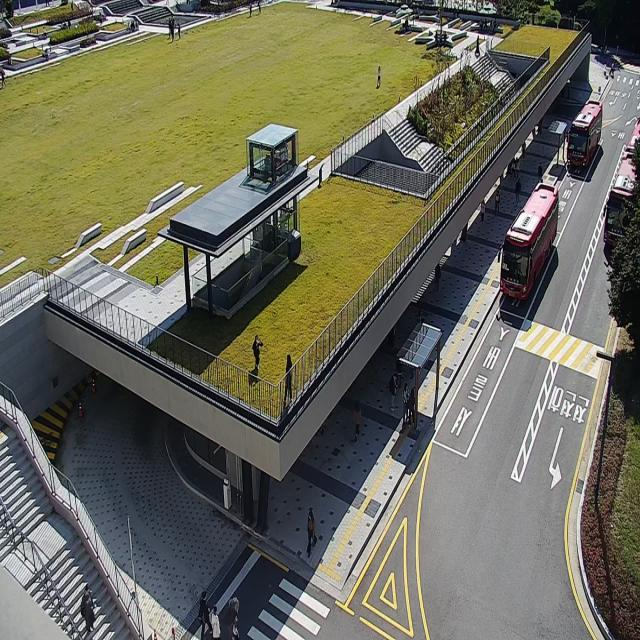queue: (414, 330, 442, 436)
